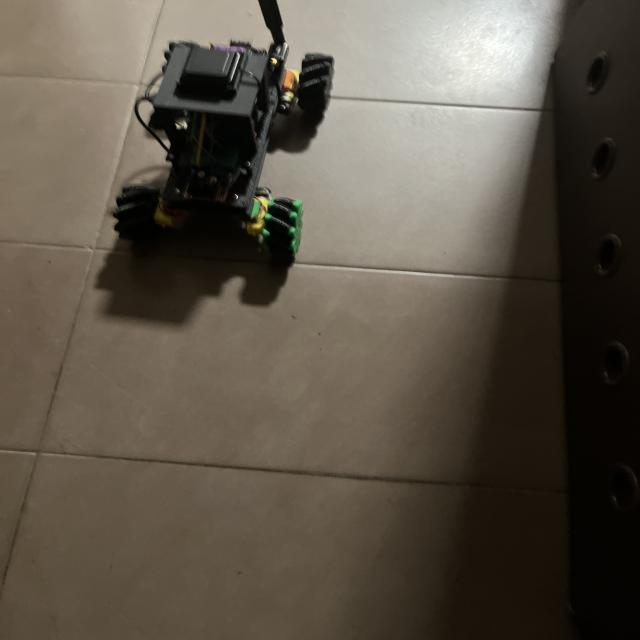robot: (113, 0, 334, 265)
